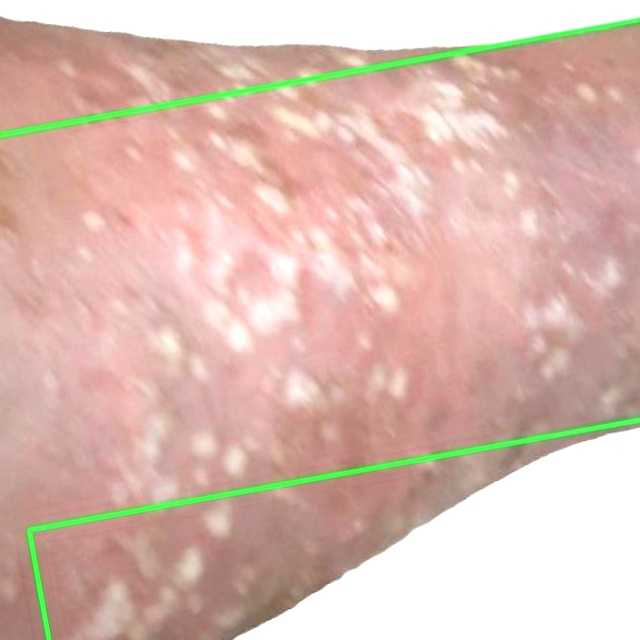Eczema: (28, 421, 639, 639)
